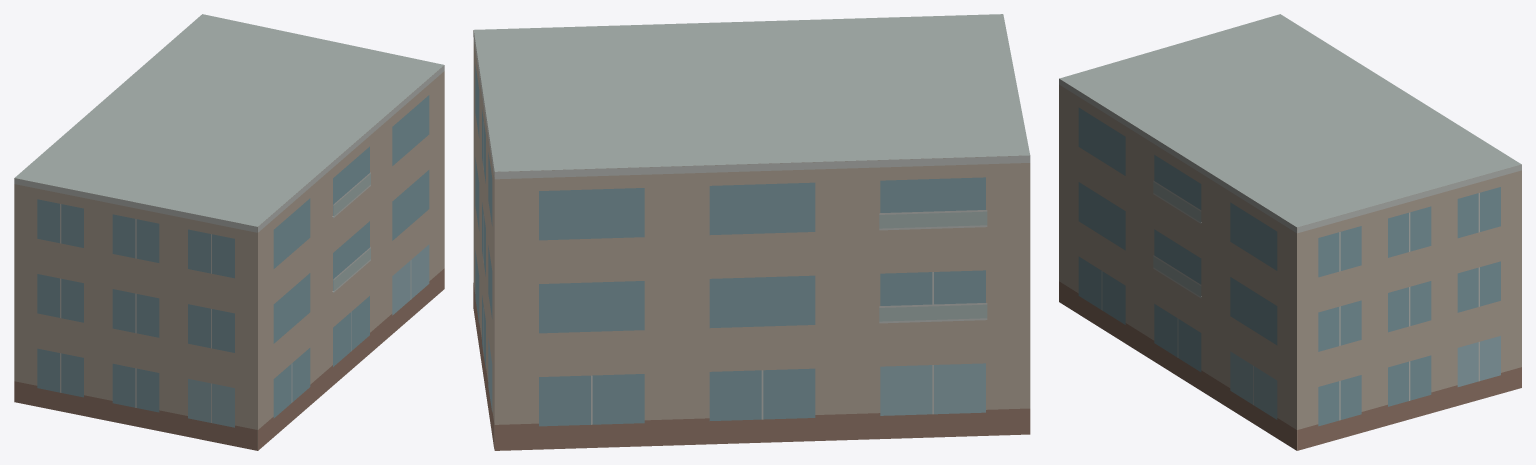
File: survey-upis-32687659.glb
The picture shows the model from 3 angles, left to right: view 1: azimuth 30°, elevation 25°; view 2: azimuth 150°, elevation 25°; view 3: azimuth 270°, elevation 25°; orthographic projection. The views are drawn at different scales.
Visible parts, largest first — view 1: survey-upis-32687659.tmp; view 2: survey-upis-32687659.tmp; view 3: survey-upis-32687659.tmp.
Boxes of the visible parts, x1,y1,x2,y2 form: survey-upis-32687659.tmp: (14, 14, 444, 450); survey-upis-32687659.tmp: (473, 14, 1030, 450); survey-upis-32687659.tmp: (1059, 14, 1521, 450).
Size of the model in its own units: 18.76 by 9.15 by 17.18.
